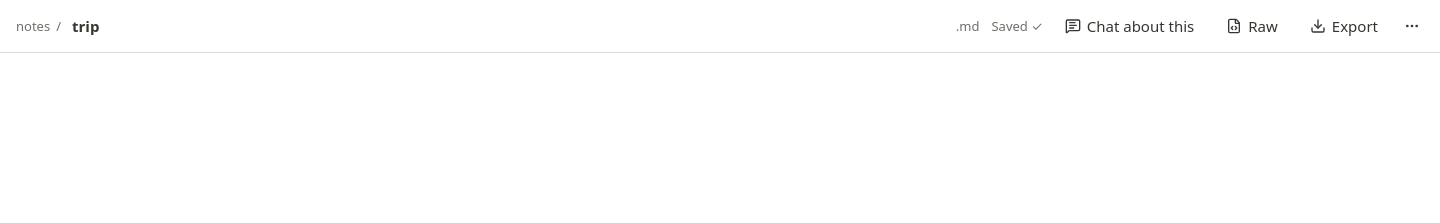
Test: export menu offers HTML/Word/Markdown and links to the export endpoint
Click the button "Export" at {"x": 1344, "y": 26}, box [1300, 8, 1388, 44]
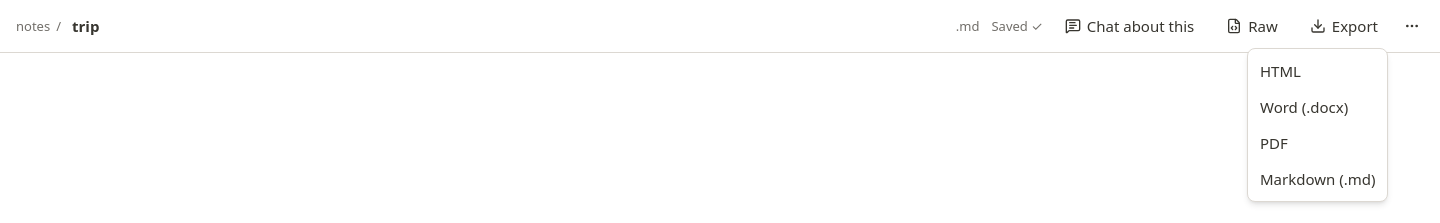
expect the menu item "Word (.docx)" is shown: met, box [1260, 97, 1348, 117]
expect the menu item "PDF" is shown: met, box [1260, 133, 1288, 153]
expect the menu item "Markdown (.md)" is shown: met, box [1260, 169, 1376, 189]
